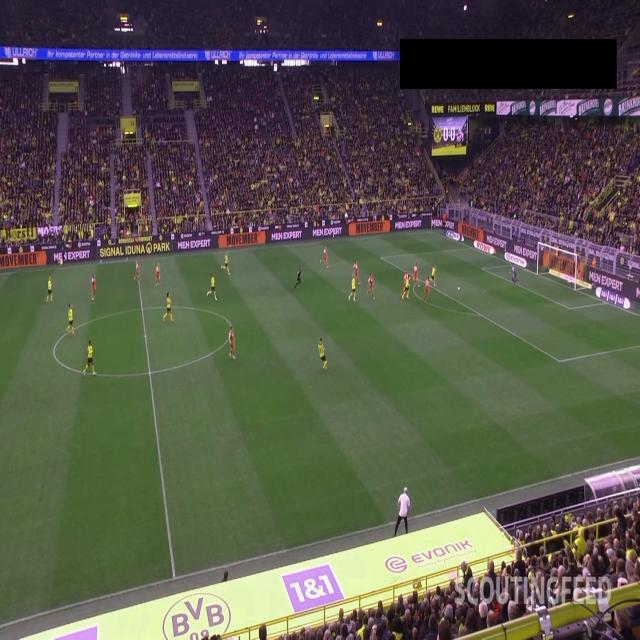ball: (454, 284, 464, 296)
f_player: (82, 341, 96, 377), (66, 299, 78, 339), (348, 262, 359, 301), (163, 292, 176, 322), (508, 259, 520, 289), (316, 337, 326, 372), (320, 242, 330, 274), (228, 328, 237, 360), (402, 271, 412, 299), (422, 274, 430, 308), (132, 260, 141, 290), (206, 272, 216, 298), (154, 263, 162, 293), (368, 272, 376, 298), (222, 256, 232, 276), (413, 260, 420, 286), (429, 264, 437, 286), (91, 273, 97, 299), (48, 276, 54, 300)
umpire: (296, 268, 304, 290)
